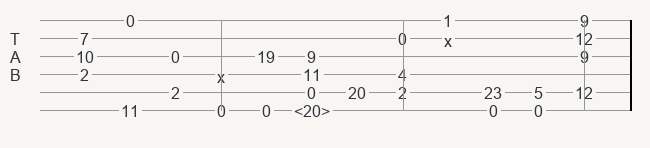0: (126, 12, 139, 28), (171, 48, 184, 64), (217, 102, 230, 118), (262, 102, 275, 118), (307, 84, 320, 100), (398, 30, 411, 46), (489, 102, 502, 118), (534, 102, 547, 118)
1: (443, 12, 456, 28)
10: (76, 48, 98, 64)
11: (121, 102, 143, 118), (303, 66, 325, 82)
12: (575, 30, 597, 46), (575, 84, 597, 100)
19: (257, 48, 279, 64)
2: (80, 66, 93, 82), (171, 84, 184, 100), (398, 84, 411, 100)
20: (348, 84, 370, 100)
23: (484, 84, 506, 100)
4: (398, 66, 411, 82)
5: (534, 84, 547, 100)
7: (80, 30, 93, 46)
9: (307, 48, 320, 64), (580, 12, 593, 28), (580, 48, 593, 64)
harmonic: (294, 102, 334, 118)
x: (217, 68, 229, 81), (444, 32, 456, 45)
